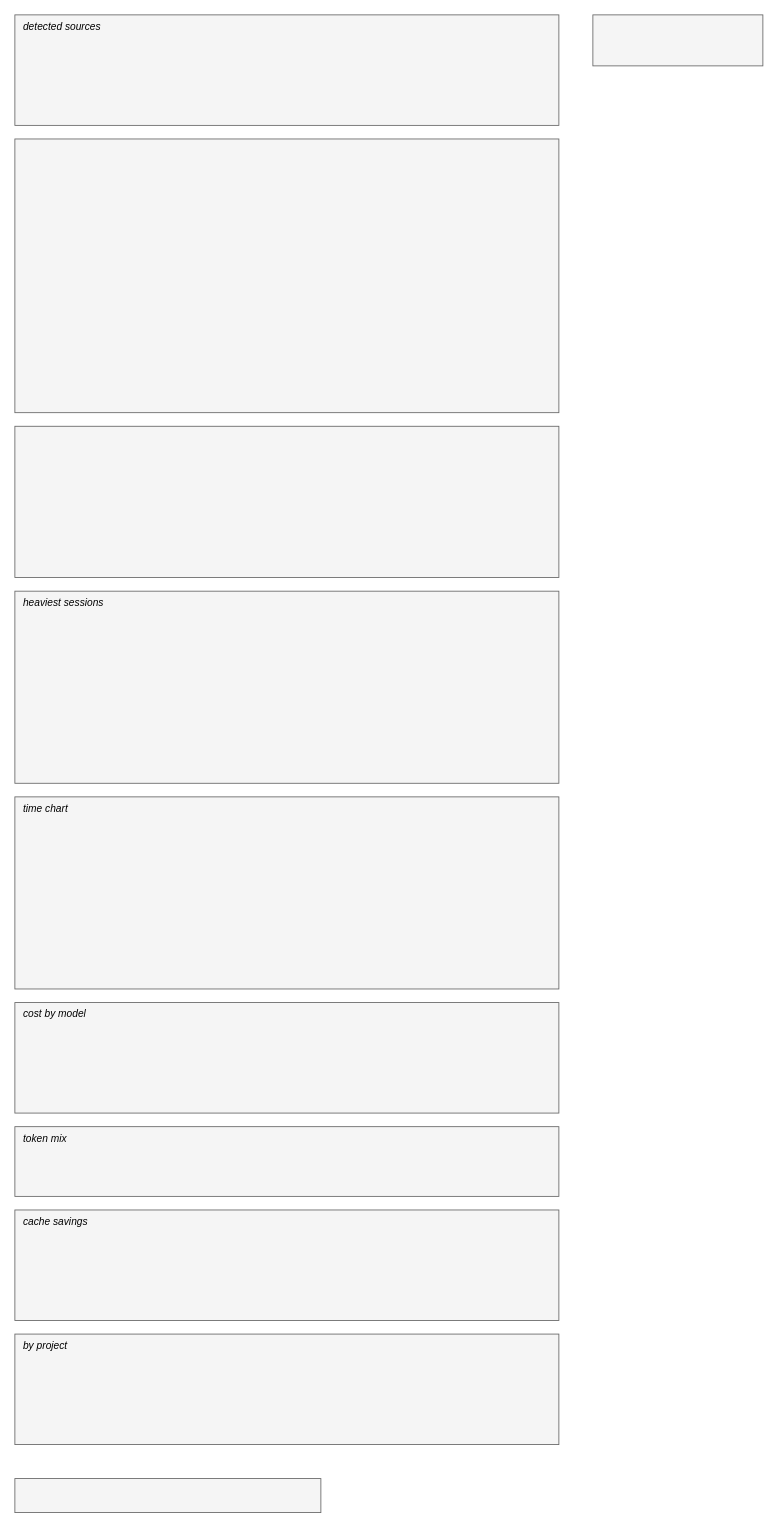
Some shapes in this 778 by 1527 pixel diagram are drawn without their labels. Each missing label, with the centre of its shape:
headline figures: the point at 286,275
Legend: each box is a region of the screen, its own view holds the shapes: the point at 167,1495
Other: the point at 677,40
outcomes: the point at 286,501
